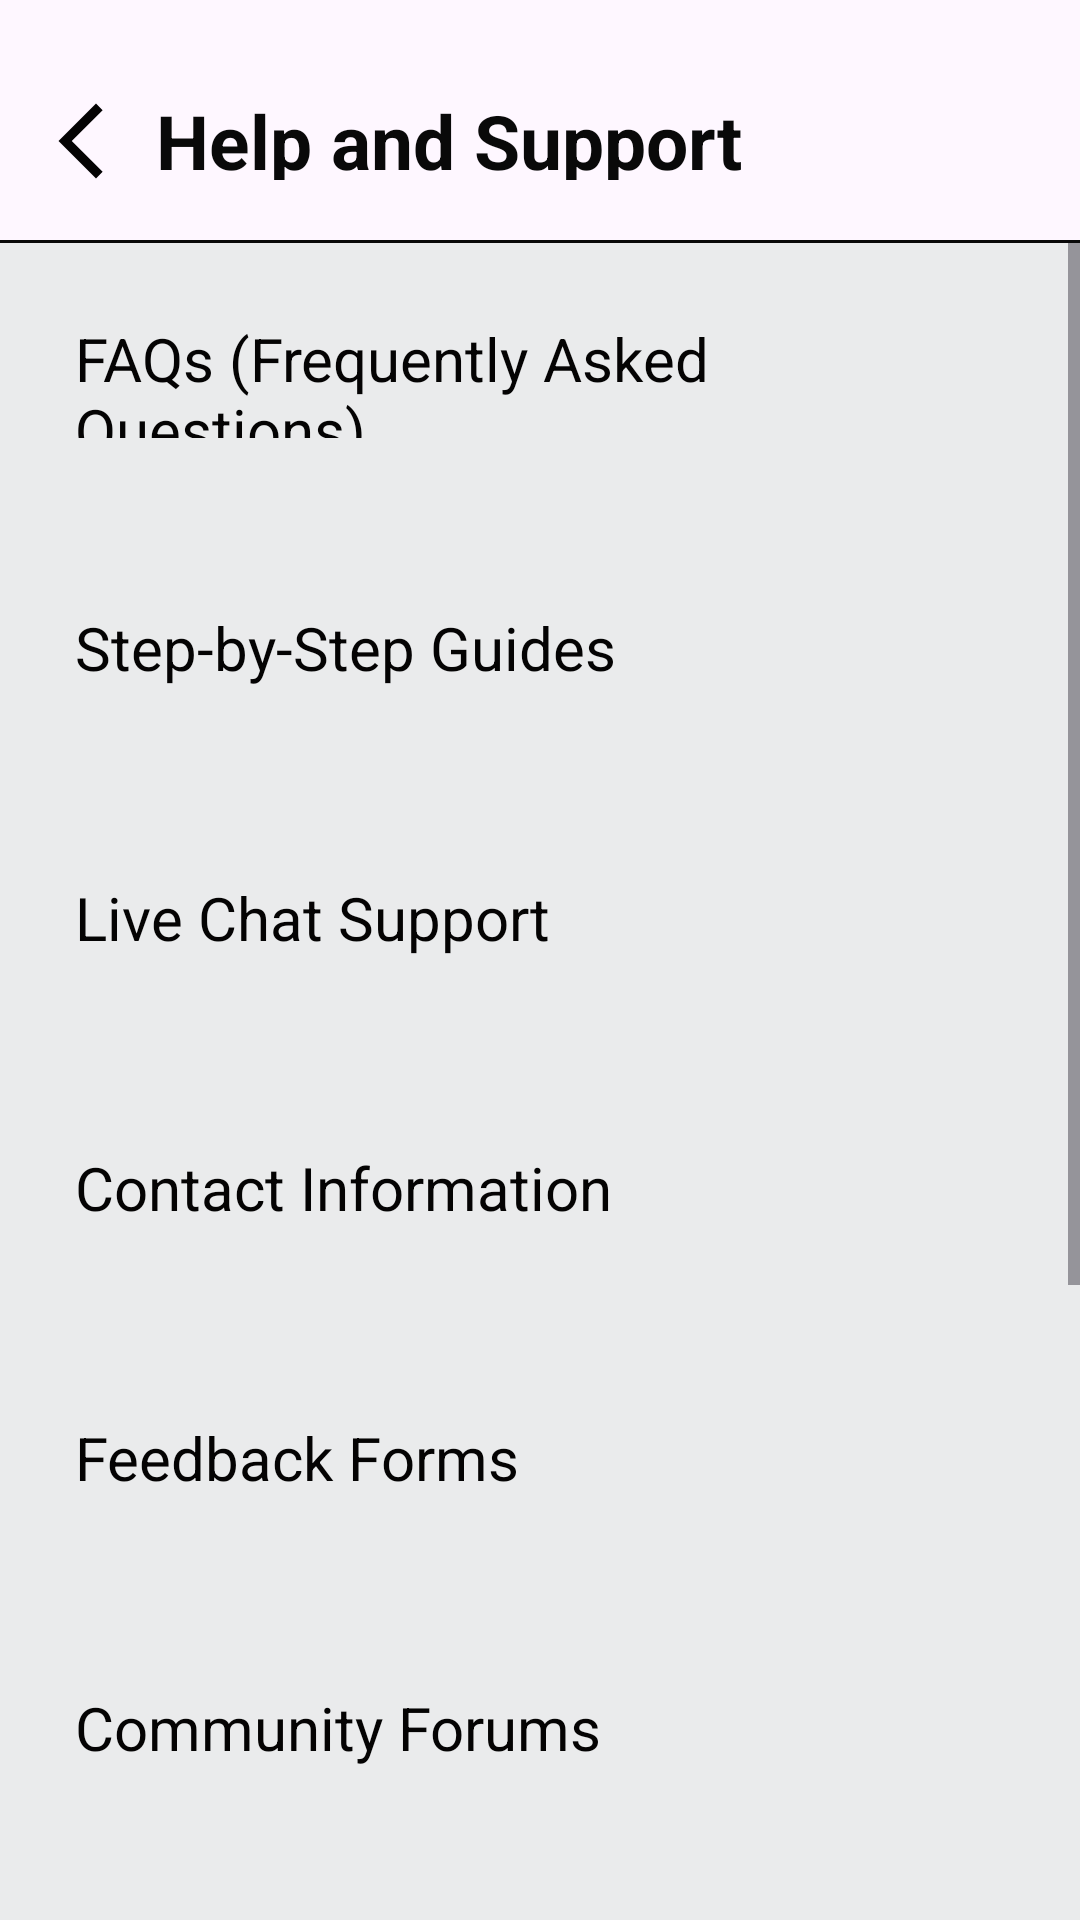

Named icons in this screenshot (1080×1920) and their bounding boxes, (x1, y1, x2, y2):
arrow back: (58, 103, 103, 179)
